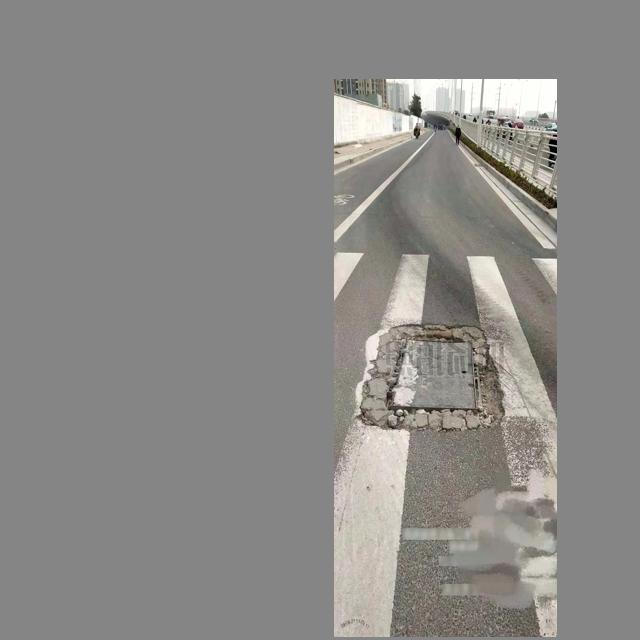circle: (244, 471, 471, 637)
